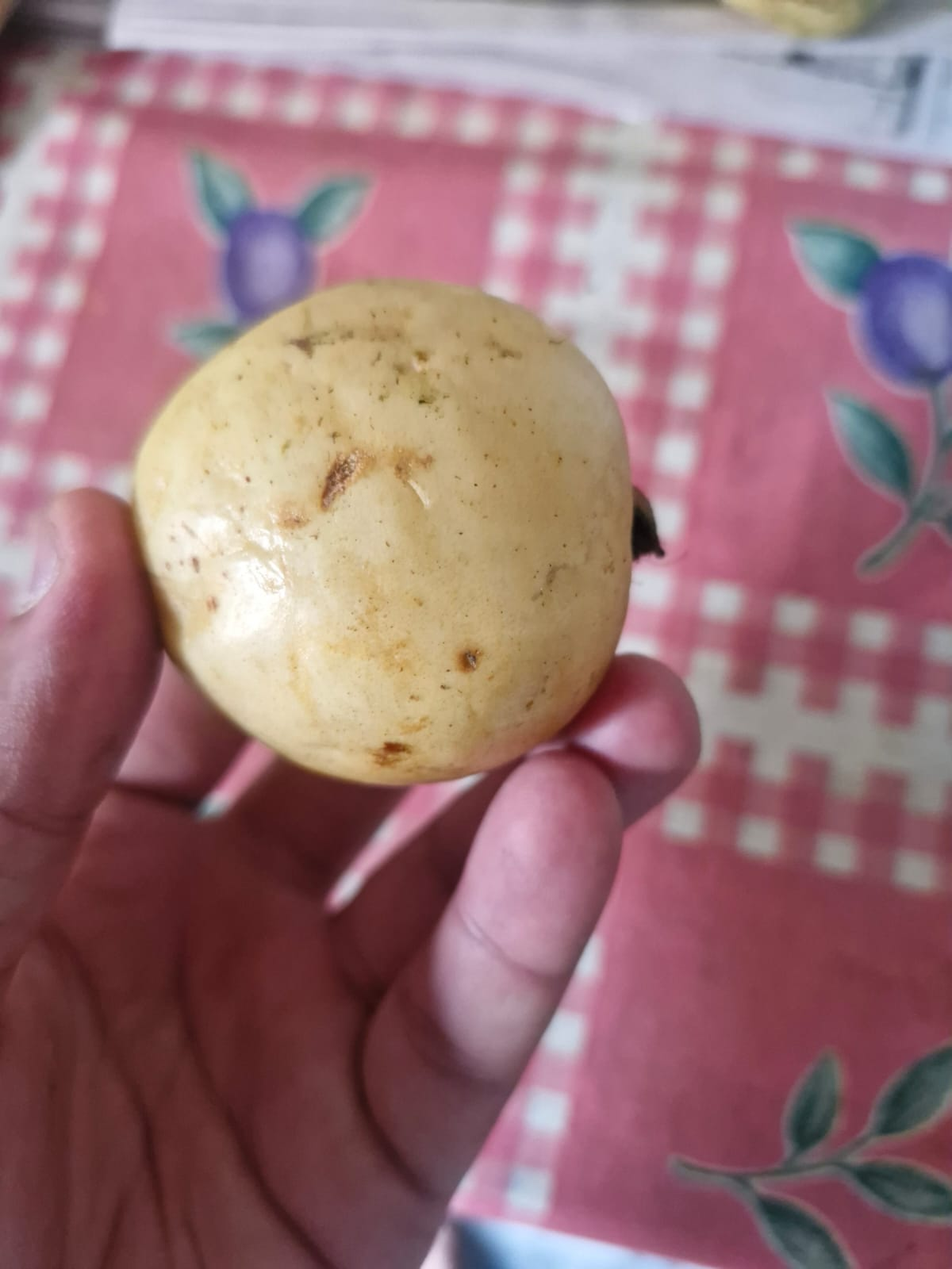guava: (183, 216, 914, 1054)
